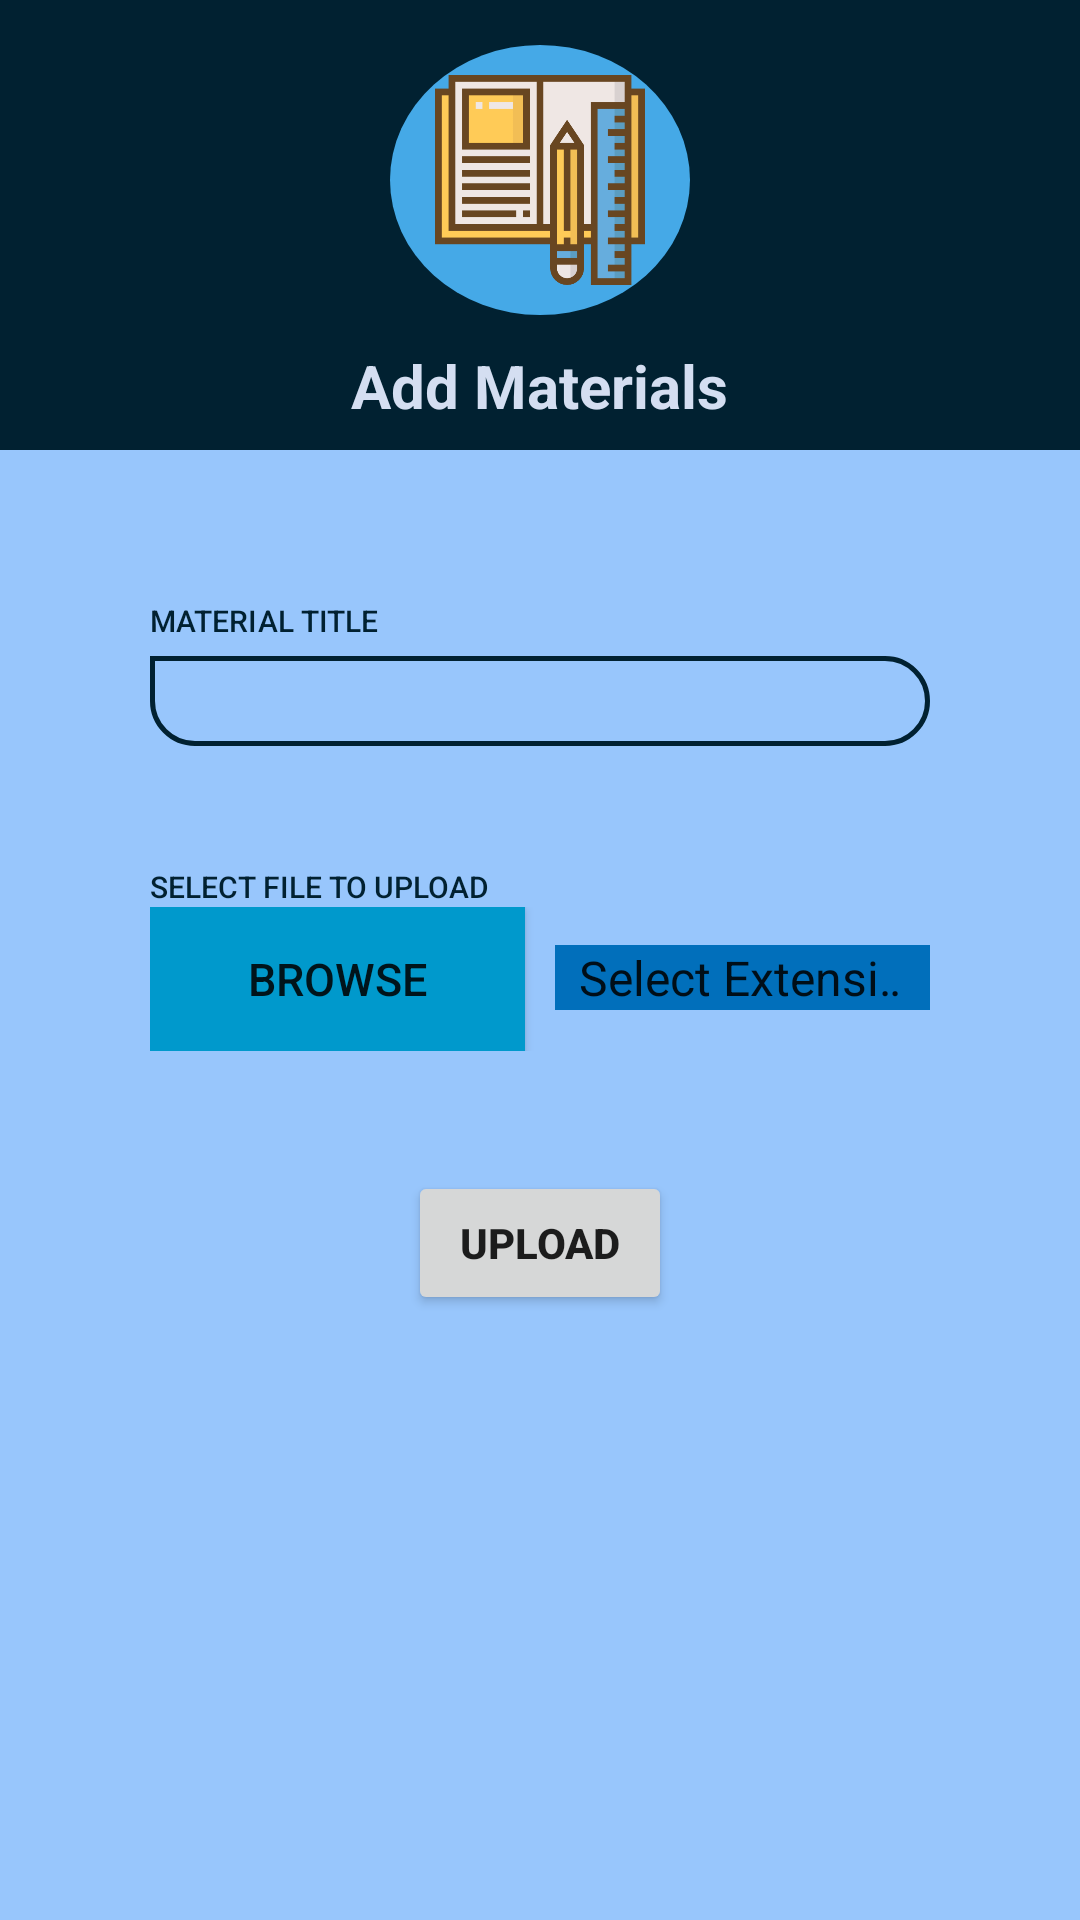

Screen size 1080 × 1920. Icon name, then its center in pixels as (x,y):
book: (540,180)
